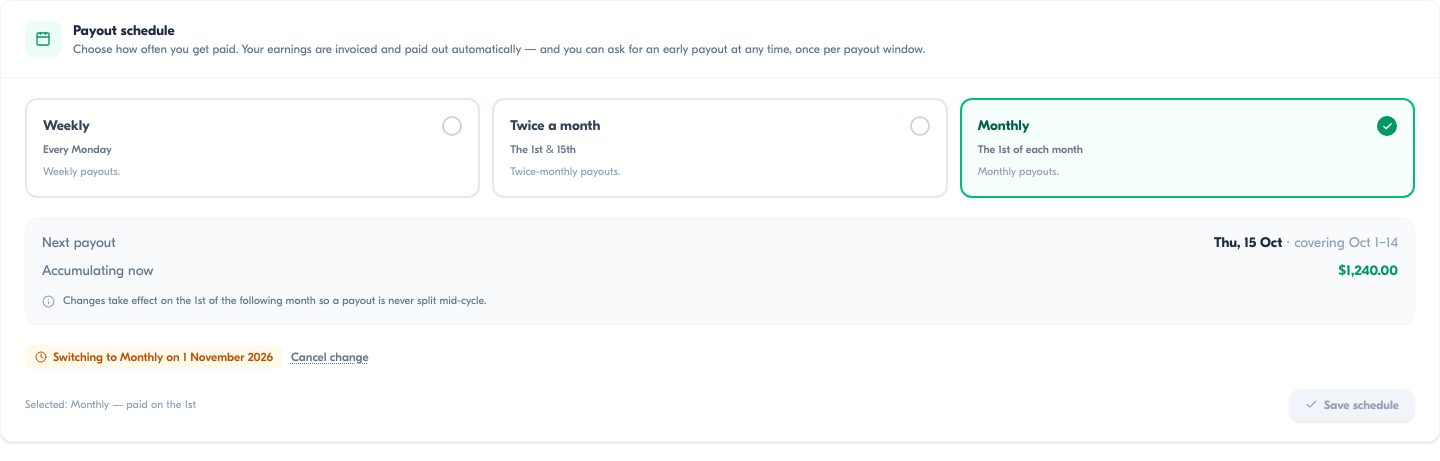
Test case: PayoutScheduleEditor › shows a scheduled switch and can cancel it
Expected: the text "Switching to Monthly on 1 November 2026" is shown, [25,345,283,369]
Click the button "Cancel change" at coordinates (330, 357), box [291,349,369,365]
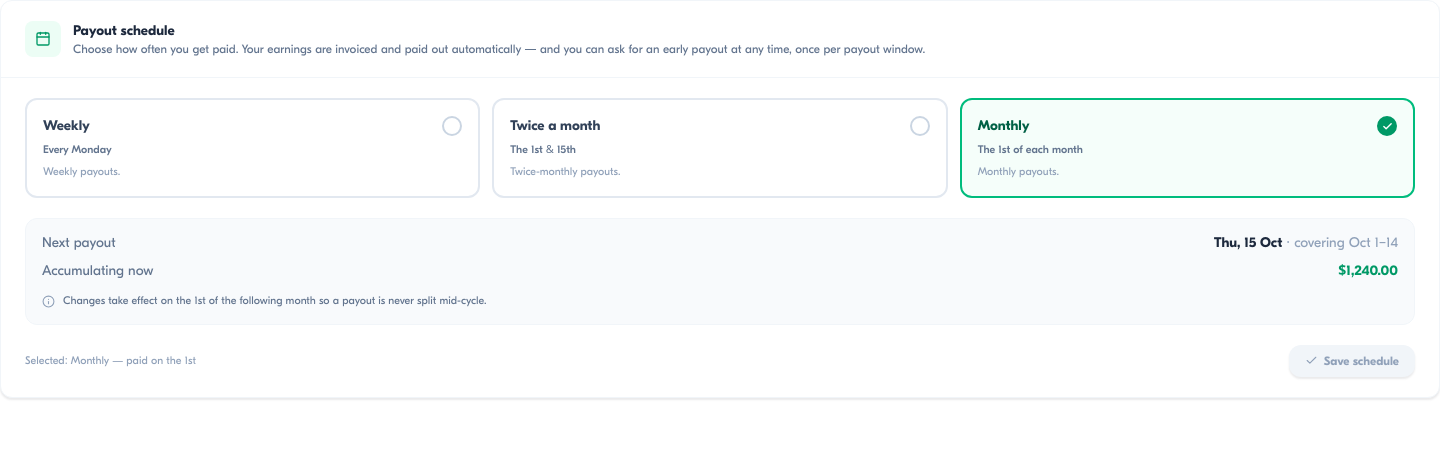
Now the text "Switching to Monthly" is gone
